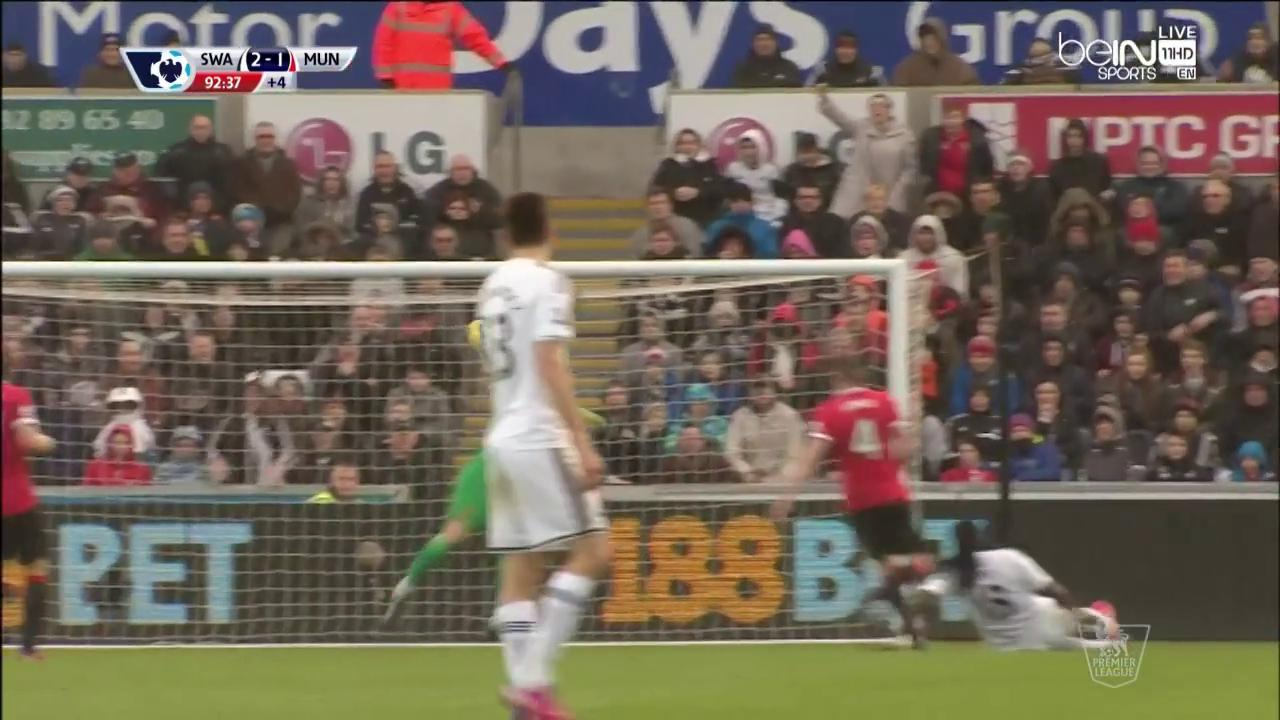football: (467, 320, 484, 351)
